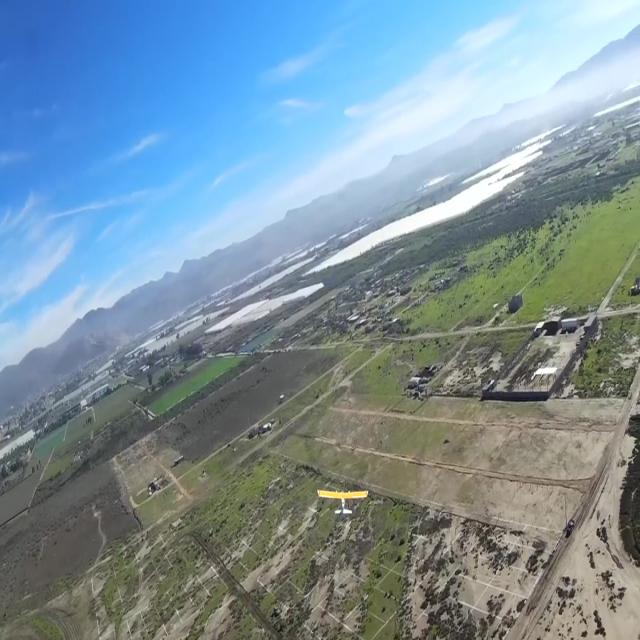iha: (314, 485, 370, 518)
